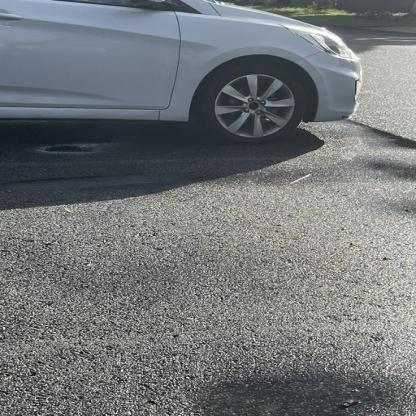Tire: (196, 60, 307, 145)
